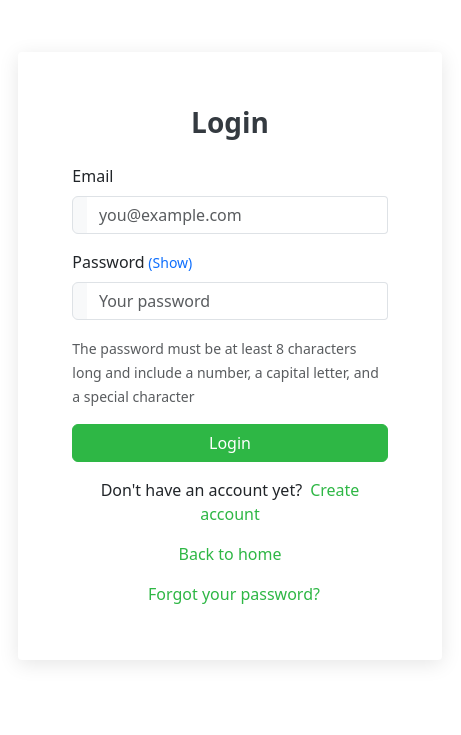
LoginForm Component test › should display resend button when login fails with "Email not confirmed!"
Type "test@example.com" into the field with test id "login_email_input". click: (237, 215)
box: x1=87 y1=196 x2=388 y2=234
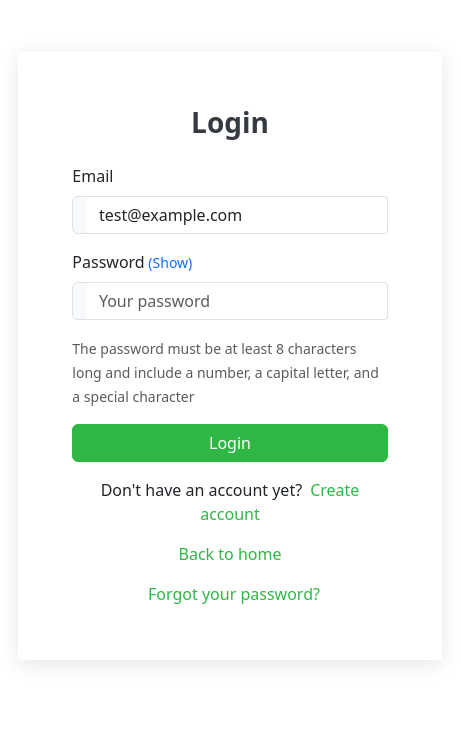
Type "password123" into the password field with test id "account-password-login". click: (237, 301)
box: x1=87 y1=282 x2=388 y2=320
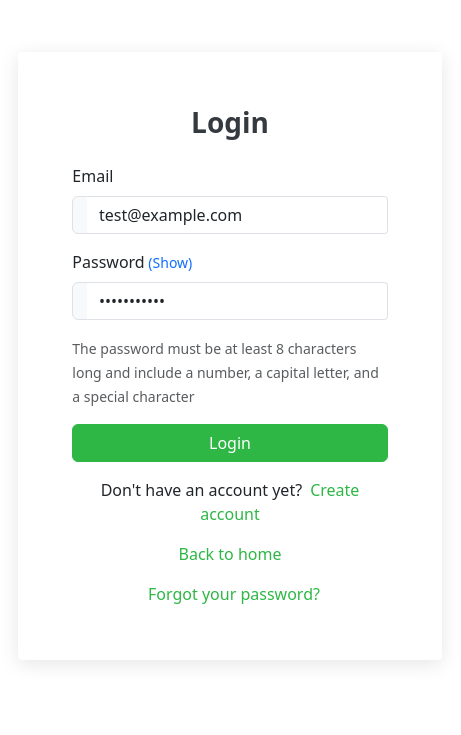
Click the button "Login". click: click(230, 443)
box: x1=72 y1=424 x2=388 y2=462
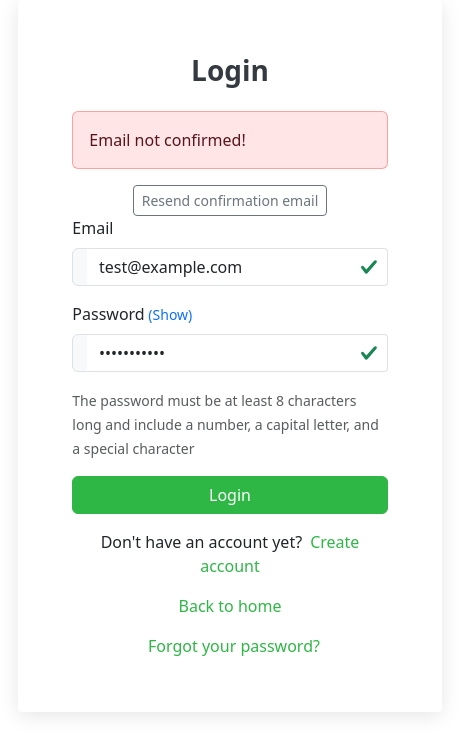
Expected: the text "Email not confirmed!" is shown, x1=72 y1=111 x2=388 y2=169
Expected: the button "Resend confirmation email" is shown, x1=133 y1=185 x2=327 y2=216
